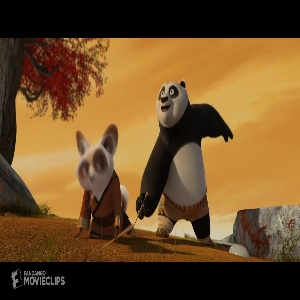po: (139, 79, 239, 245)
shifu: (69, 126, 135, 241)
